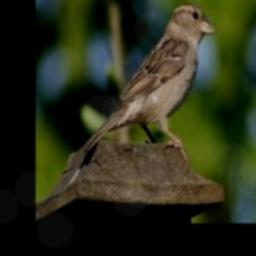Sparrow: (84, 4, 214, 157)
